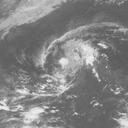cyclone: (50, 36, 99, 84)
